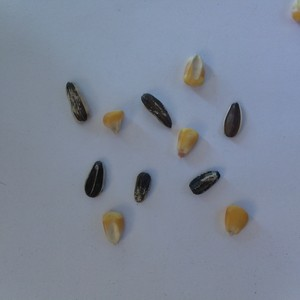girasol: (138, 91, 174, 131), (62, 79, 94, 123), (188, 165, 222, 196), (81, 159, 106, 200), (221, 100, 244, 142), (131, 171, 153, 206)
maiz: (178, 51, 209, 91), (97, 209, 127, 247), (221, 202, 251, 239), (175, 128, 200, 159), (102, 108, 126, 135)
